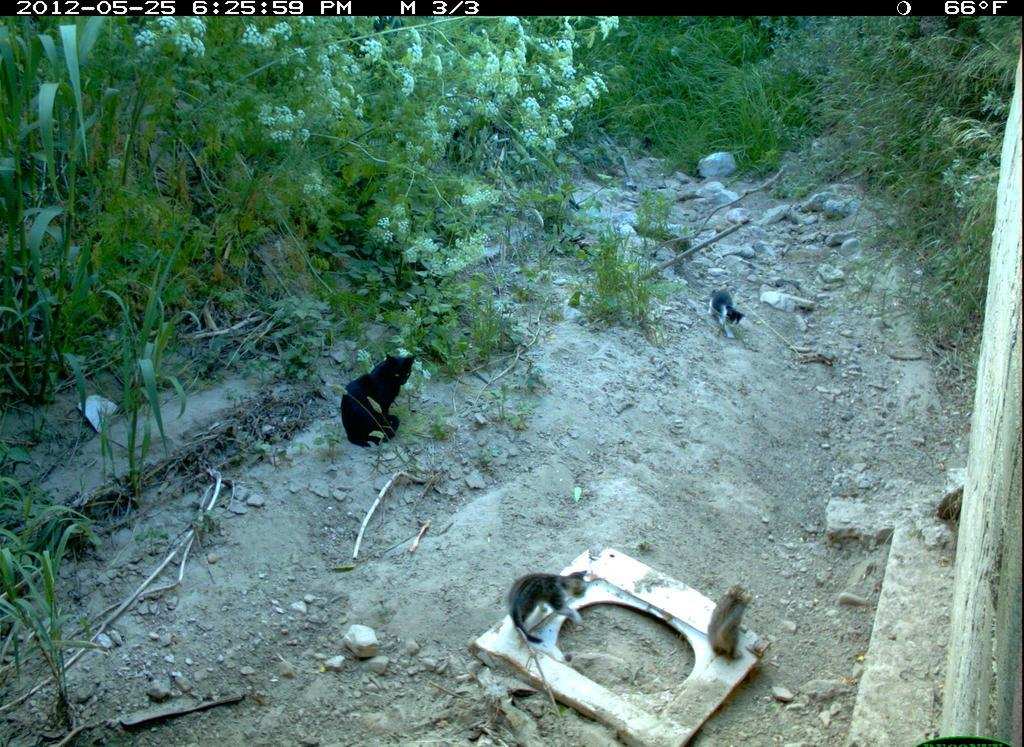cat: (336, 346, 421, 449), (503, 564, 601, 643), (702, 578, 760, 665), (710, 287, 753, 344)
